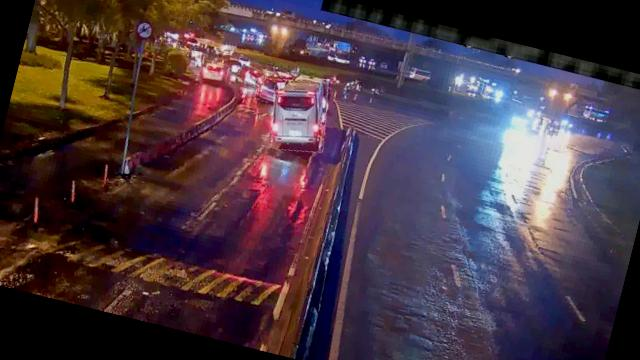Bus: (262, 74, 336, 158)
Car: (254, 77, 282, 105), (236, 63, 266, 88), (202, 61, 228, 84)
